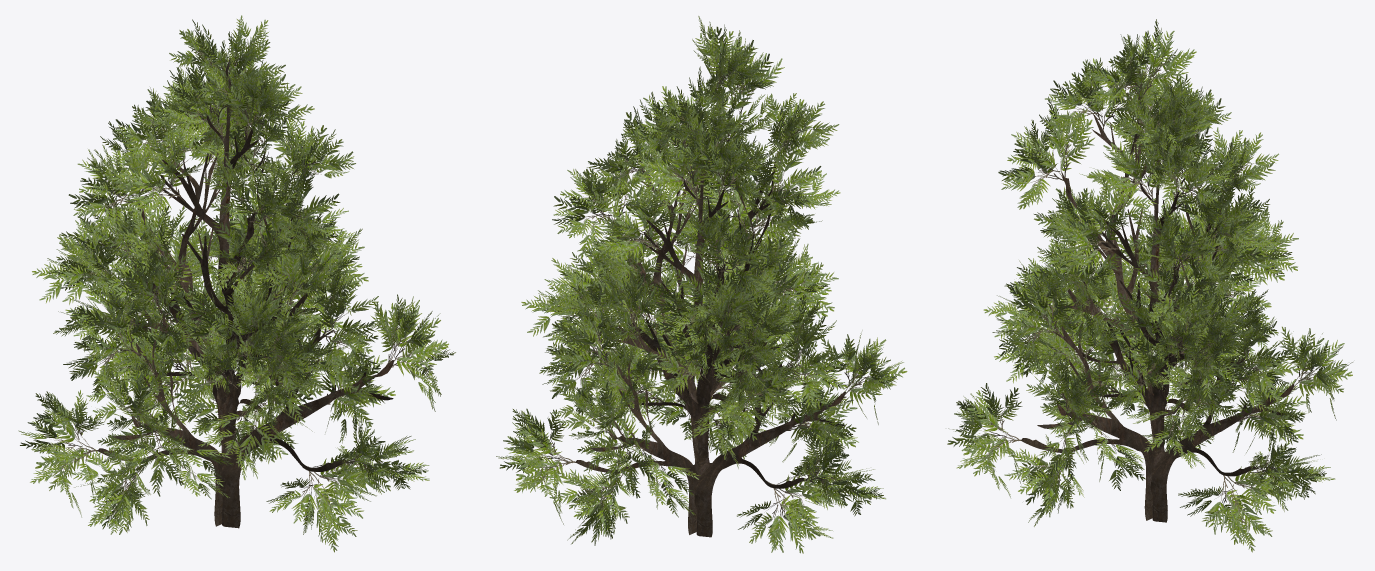
The model's file is tree_lod0.glb.
3 views of the same model, side by side, from view 1: azimuth 30°, elevation 25°; view 2: azimuth 150°, elevation 25°; view 3: azimuth 270°, elevation 25° (orthographic). The views are drawn at different scales.
Parts seen in each view (by area): view 1: Object_5406.001, Object_5404.001; view 2: Object_5406.001, Object_5404.001; view 3: Object_5406.001, Object_5404.001.
Part boxes in pixels (bbox=[...]): Object_5406.001: bbox=[18, 15, 455, 552]; Object_5404.001: bbox=[97, 58, 394, 528]; Object_5406.001: bbox=[496, 16, 907, 553]; Object_5404.001: bbox=[575, 66, 845, 537]; Object_5406.001: bbox=[947, 19, 1352, 552]; Object_5404.001: bbox=[1021, 67, 1294, 522].
Size of the model in its own units: 14.23 by 18.32 by 14.27.
2 materials, 2 textured.
